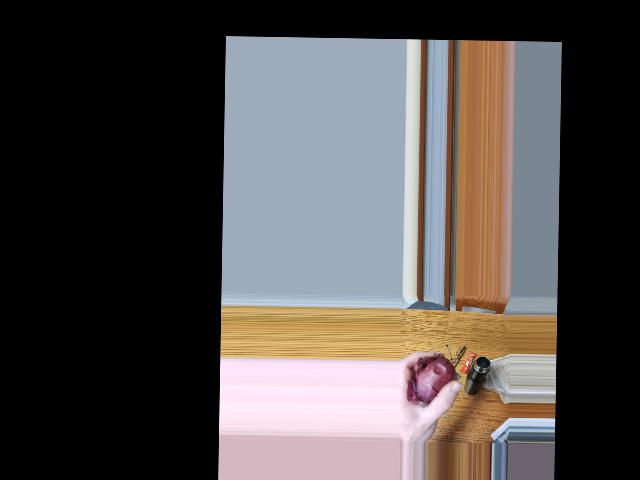onion: (411, 357, 456, 404)
